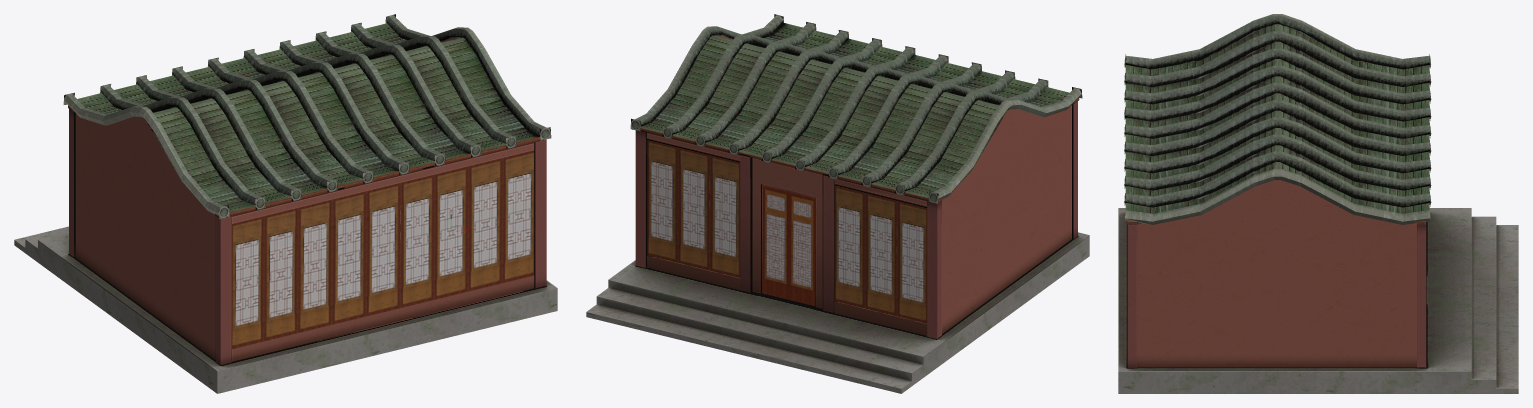
Rendered from NNJ0110011.fbx.
The picture shows the model from 3 angles, left to right: view 1: azimuth 30°, elevation 25°; view 2: azimuth 150°, elevation 25°; view 3: azimuth 270°, elevation 25°; orthographic projection. The views are drawn at different scales.
Visible parts, largest first — view 1: smNNJ0110011; view 2: smNNJ0110011; view 3: smNNJ0110011.
Part boxes in pixels (x1,y1,x2,y2): smNNJ0110011: (14,14,557,393); smNNJ0110011: (586,14,1089,393); smNNJ0110011: (1118,14,1518,393).
Size of the model in its own units: 828 by 520 by 856.
Materials: 1 (1 with a texture image).
